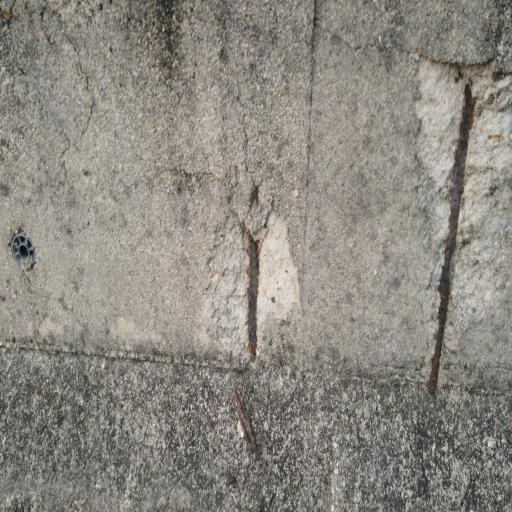exposed_rebar: (429, 84, 476, 395), (233, 389, 260, 460), (248, 231, 261, 361)
